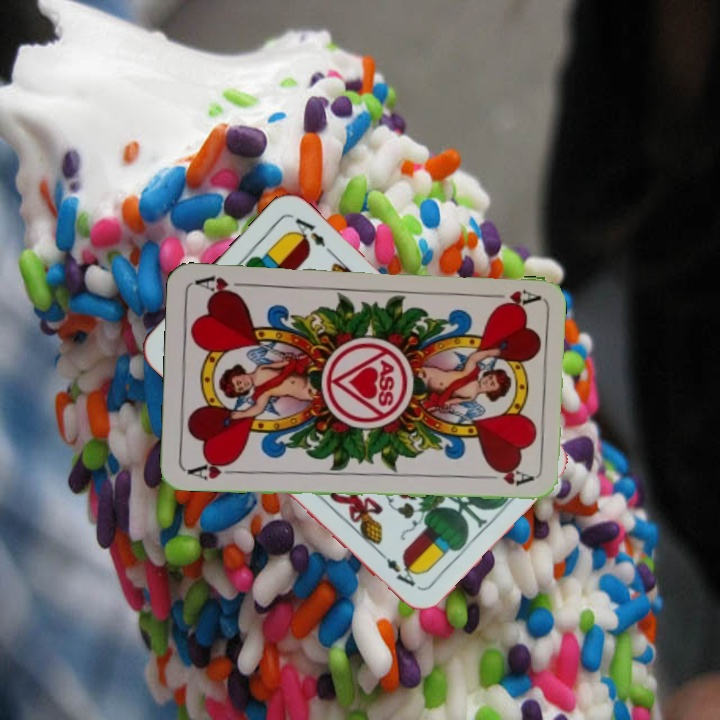HA: (184, 456, 243, 482), (481, 285, 540, 310)
